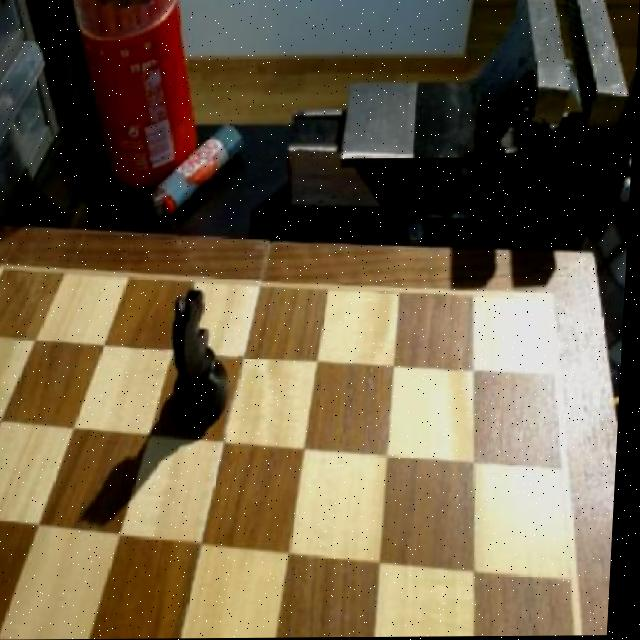black-king: (163, 285, 246, 434)
